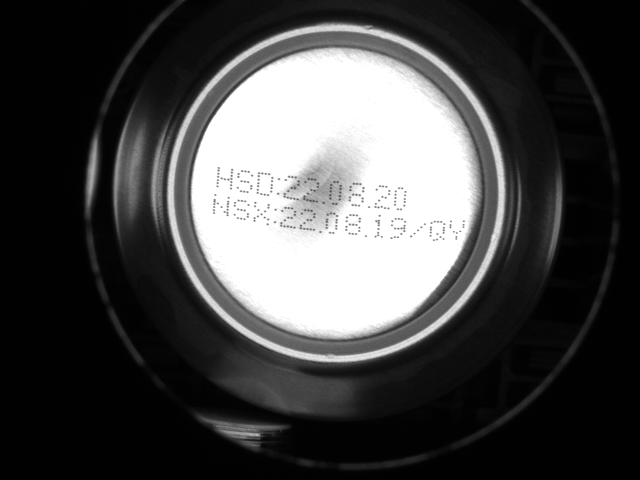/: (411, 219, 427, 239)
0: (326, 177, 344, 204), (324, 211, 342, 235), (393, 185, 408, 212)
1: (371, 214, 386, 239)
2: (301, 174, 323, 203), (278, 204, 299, 230), (281, 173, 299, 202), (371, 183, 391, 209), (299, 208, 319, 232)
8: (344, 211, 363, 238), (348, 180, 365, 209)
9: (390, 216, 408, 241)
D: (256, 169, 275, 196)
H: (213, 165, 235, 193)
N: (211, 192, 230, 217)
Q: (429, 217, 448, 243)
S: (233, 197, 251, 223), (237, 169, 254, 194)
X: (252, 201, 270, 225)
Y: (451, 216, 469, 241)
